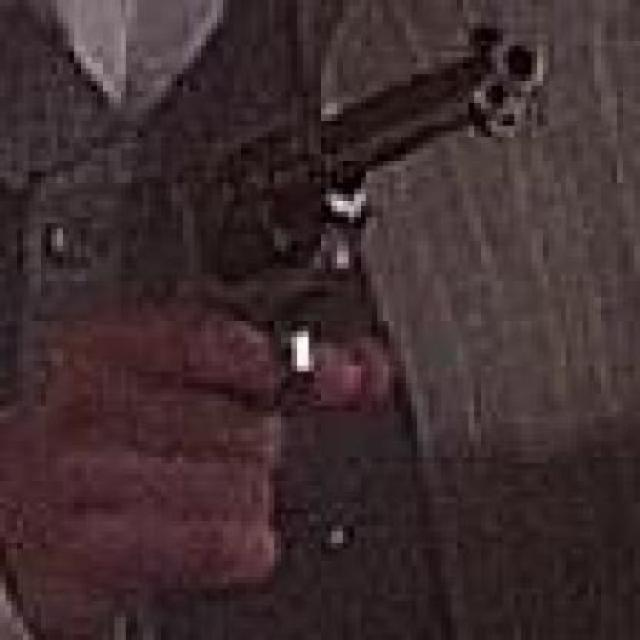rifle: (105, 16, 508, 342)
